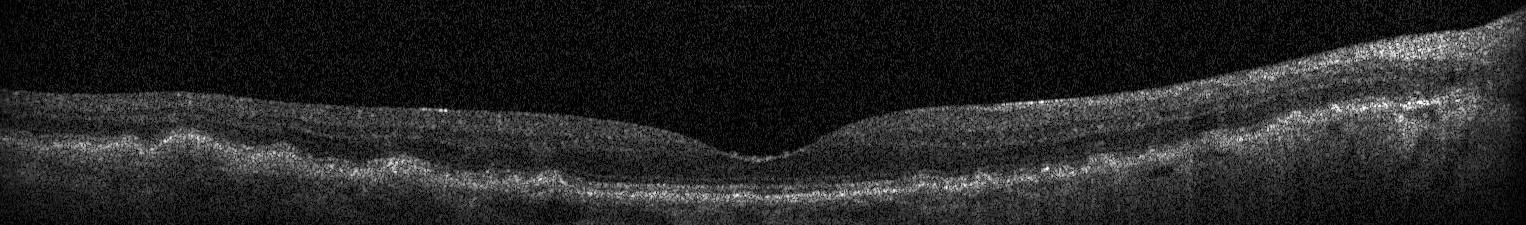retinal_drusen: (152, 137, 237, 169), (253, 152, 303, 170), (378, 162, 421, 173), (533, 172, 563, 186), (107, 146, 141, 158), (1089, 157, 1113, 173), (493, 176, 520, 189), (1198, 135, 1221, 149), (1286, 114, 1307, 128), (1037, 169, 1056, 183), (970, 175, 991, 187), (1140, 152, 1158, 166), (1161, 148, 1176, 161), (1180, 143, 1193, 157), (915, 183, 935, 191), (1330, 106, 1340, 115)
